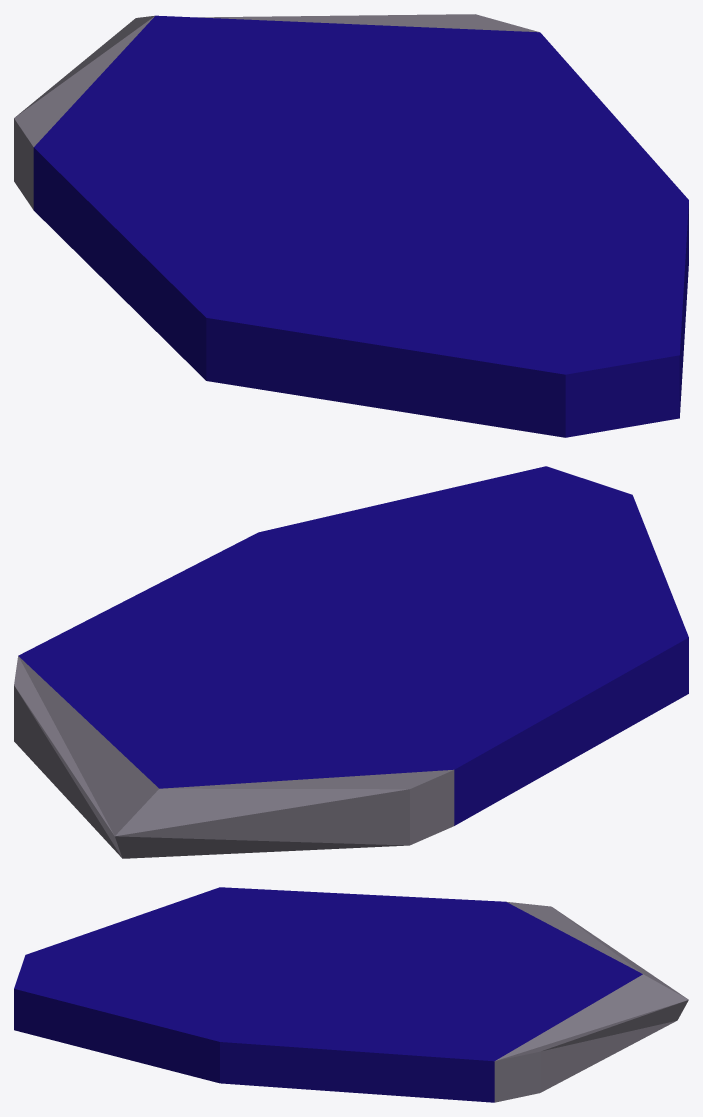
The model's file is inv_blue_dragon_scale.obj.
3 views of the same model, one above another, from view 1: azimuth 30°, elevation 25°; view 2: azimuth 150°, elevation 25°; view 3: azimuth 270°, elevation 25° (orthographic). The views are drawn at different scales.
Size of the model in its own units: 0.2812 by 0.0312 by 0.4609.
